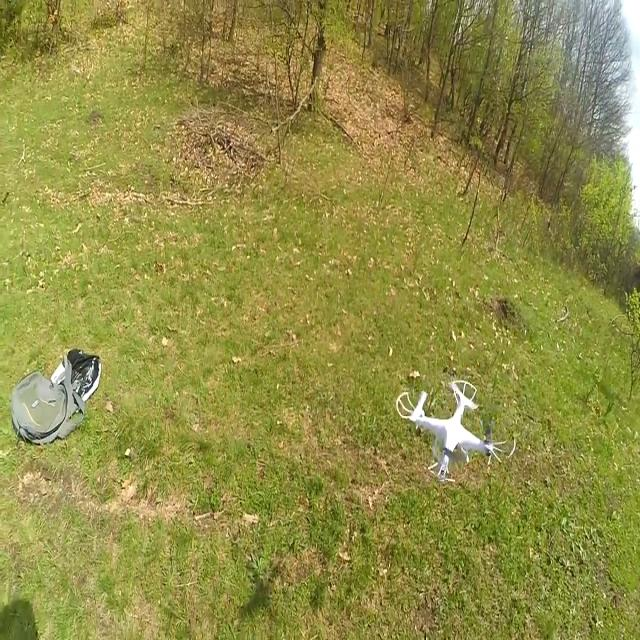drones: (394, 378, 518, 493)
